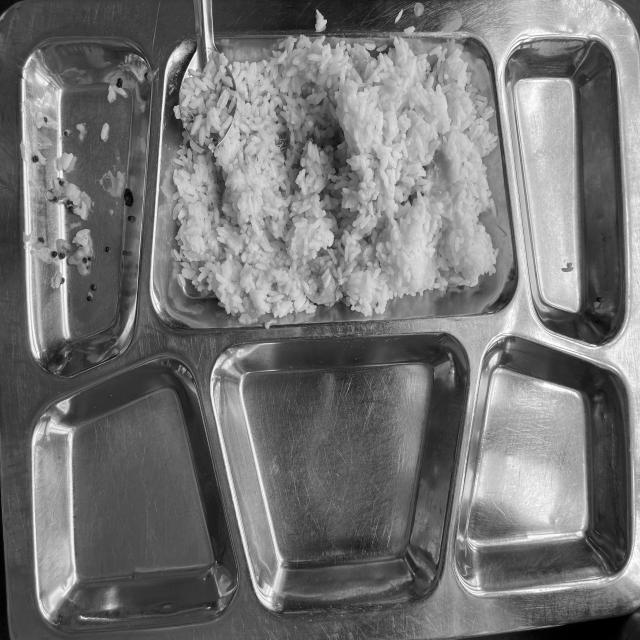50-Food-Left: (19, 13, 629, 590)
